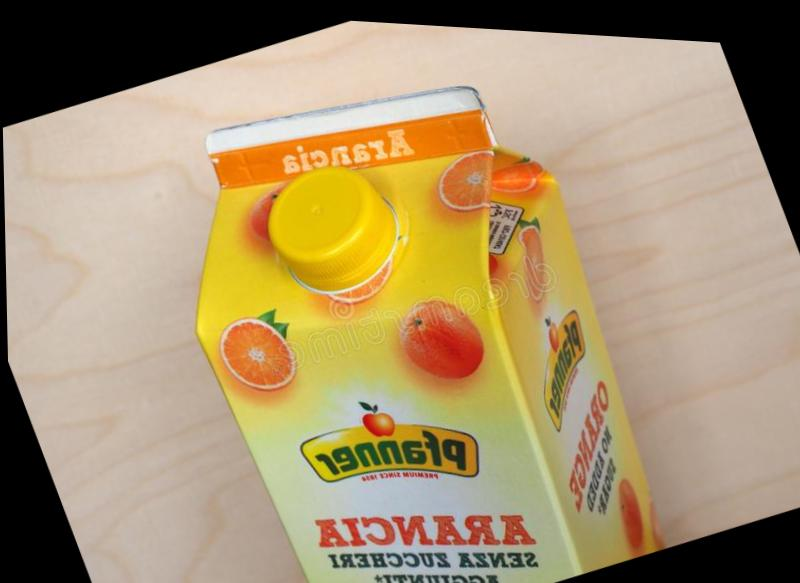cardboard: (131, 11, 703, 583)
